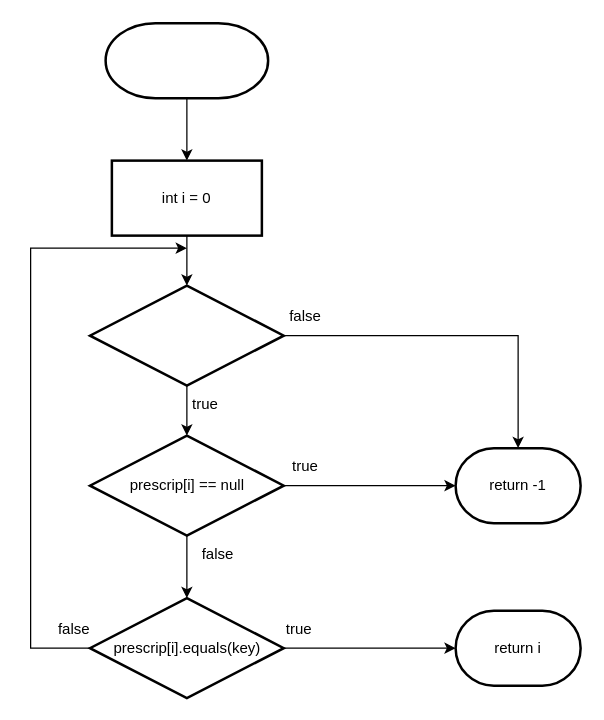
This 604x720 diagram has some shape labels left out. Here are the shapes that lost their labels. From the top down, the centre of each, then its label:
At [186,60]: "search(String key)".
At [186,335]: "i < prescrip.length".
